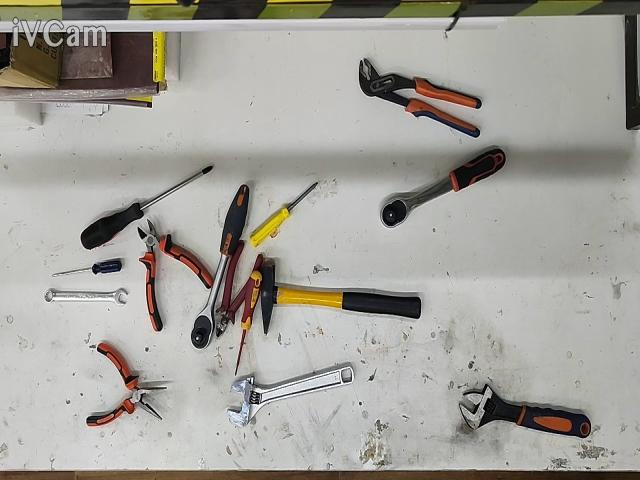Adjustable spanner: (228, 365, 354, 427), (459, 384, 591, 438)
Cutting pliers: (137, 218, 212, 332), (215, 240, 264, 338)
Gas wrench: (359, 58, 481, 138)
Hammer: (260, 262, 421, 336)
Needle-nose pliers: (87, 343, 168, 428)
Ratchet: (381, 148, 506, 228), (191, 183, 250, 350)
Screwdriver: (80, 166, 212, 250), (250, 181, 318, 247), (234, 271, 262, 376), (52, 261, 121, 277)
Wrench: (45, 288, 128, 307)
